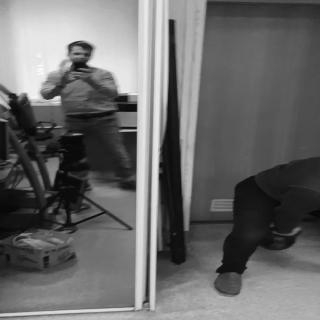girya: (260, 226, 302, 251)
